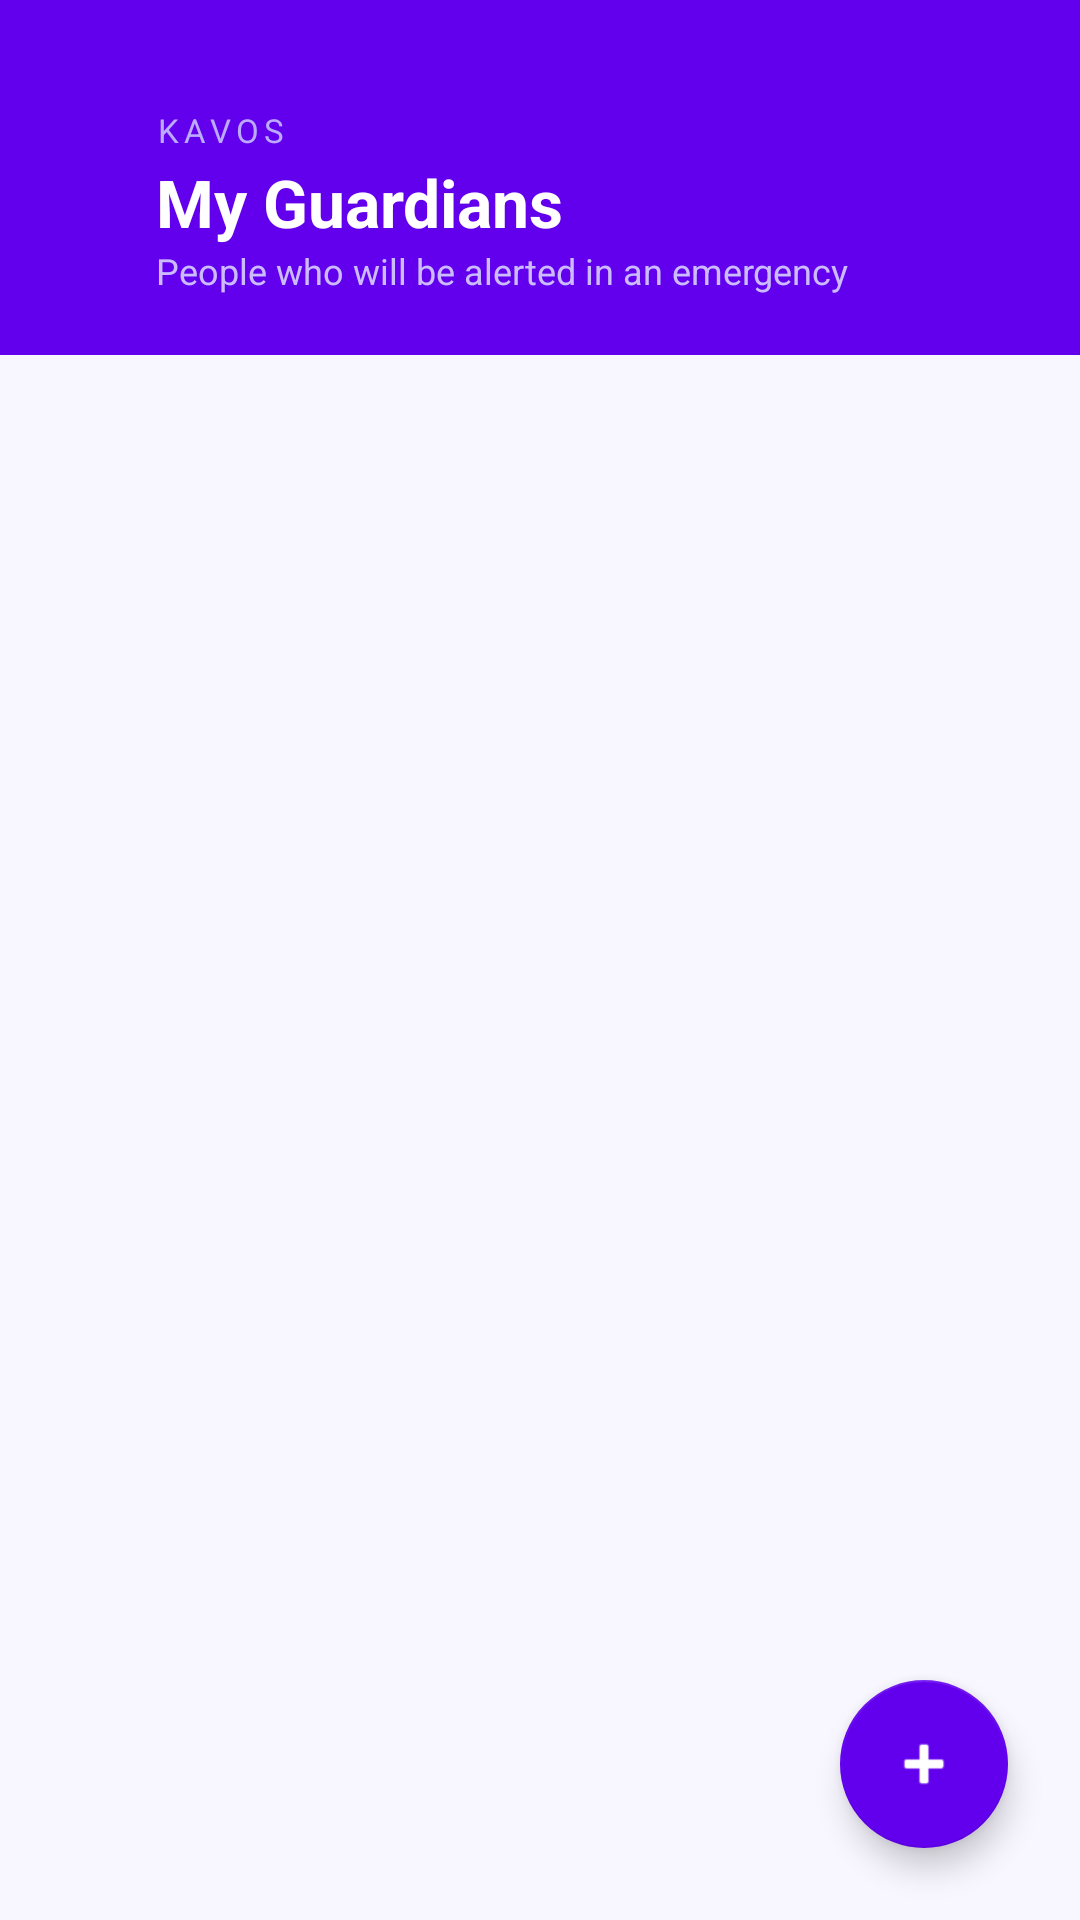

Locate icon controls on the screen. Image size 1080 × 1920, boxes as bbox=(x1, y1, x2, y2).
Add Guardian: bbox=(840, 1680, 1008, 1848)
